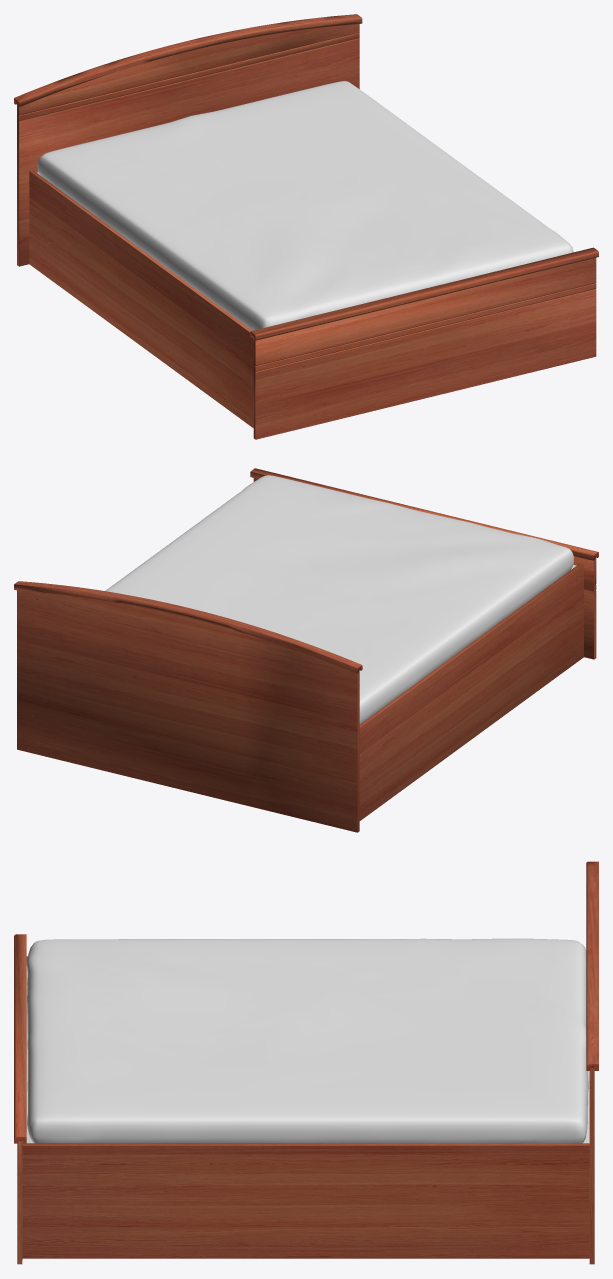
The model's file is B07LC84ZYV.glb.
The picture shows the model from 3 angles, top to bottom: view 1: azimuth 30°, elevation 25°; view 2: azimuth 150°, elevation 25°; view 3: azimuth 270°, elevation 25°; orthographic projection. The views are drawn at different scales.
Parts seen in each view (by area): view 1: RootNode; view 2: RootNode; view 3: RootNode.
Boxes of the visible parts, x1,y1,x2,y2 form: RootNode: [14, 14, 598, 439]; RootNode: [14, 468, 598, 832]; RootNode: [14, 861, 598, 1264].
Bounding box in the file's own units: 1.68 × 0.8479 × 2.05.
Materials: 1 (1 with a texture image).
